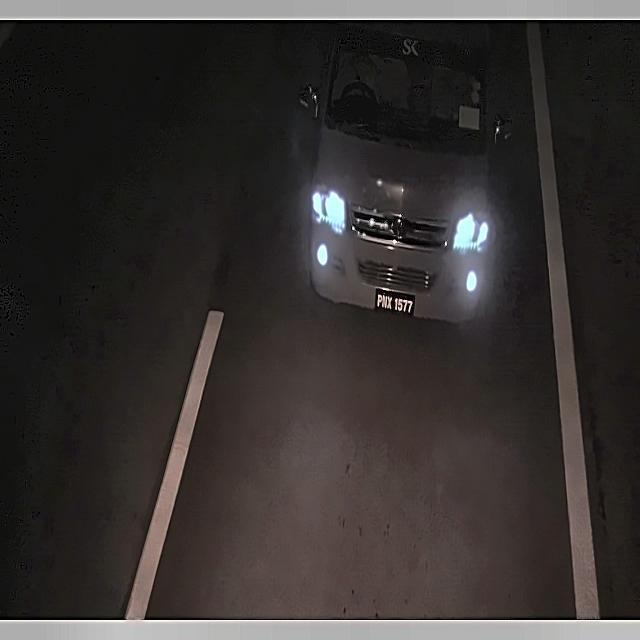car: (371, 281, 422, 328)
